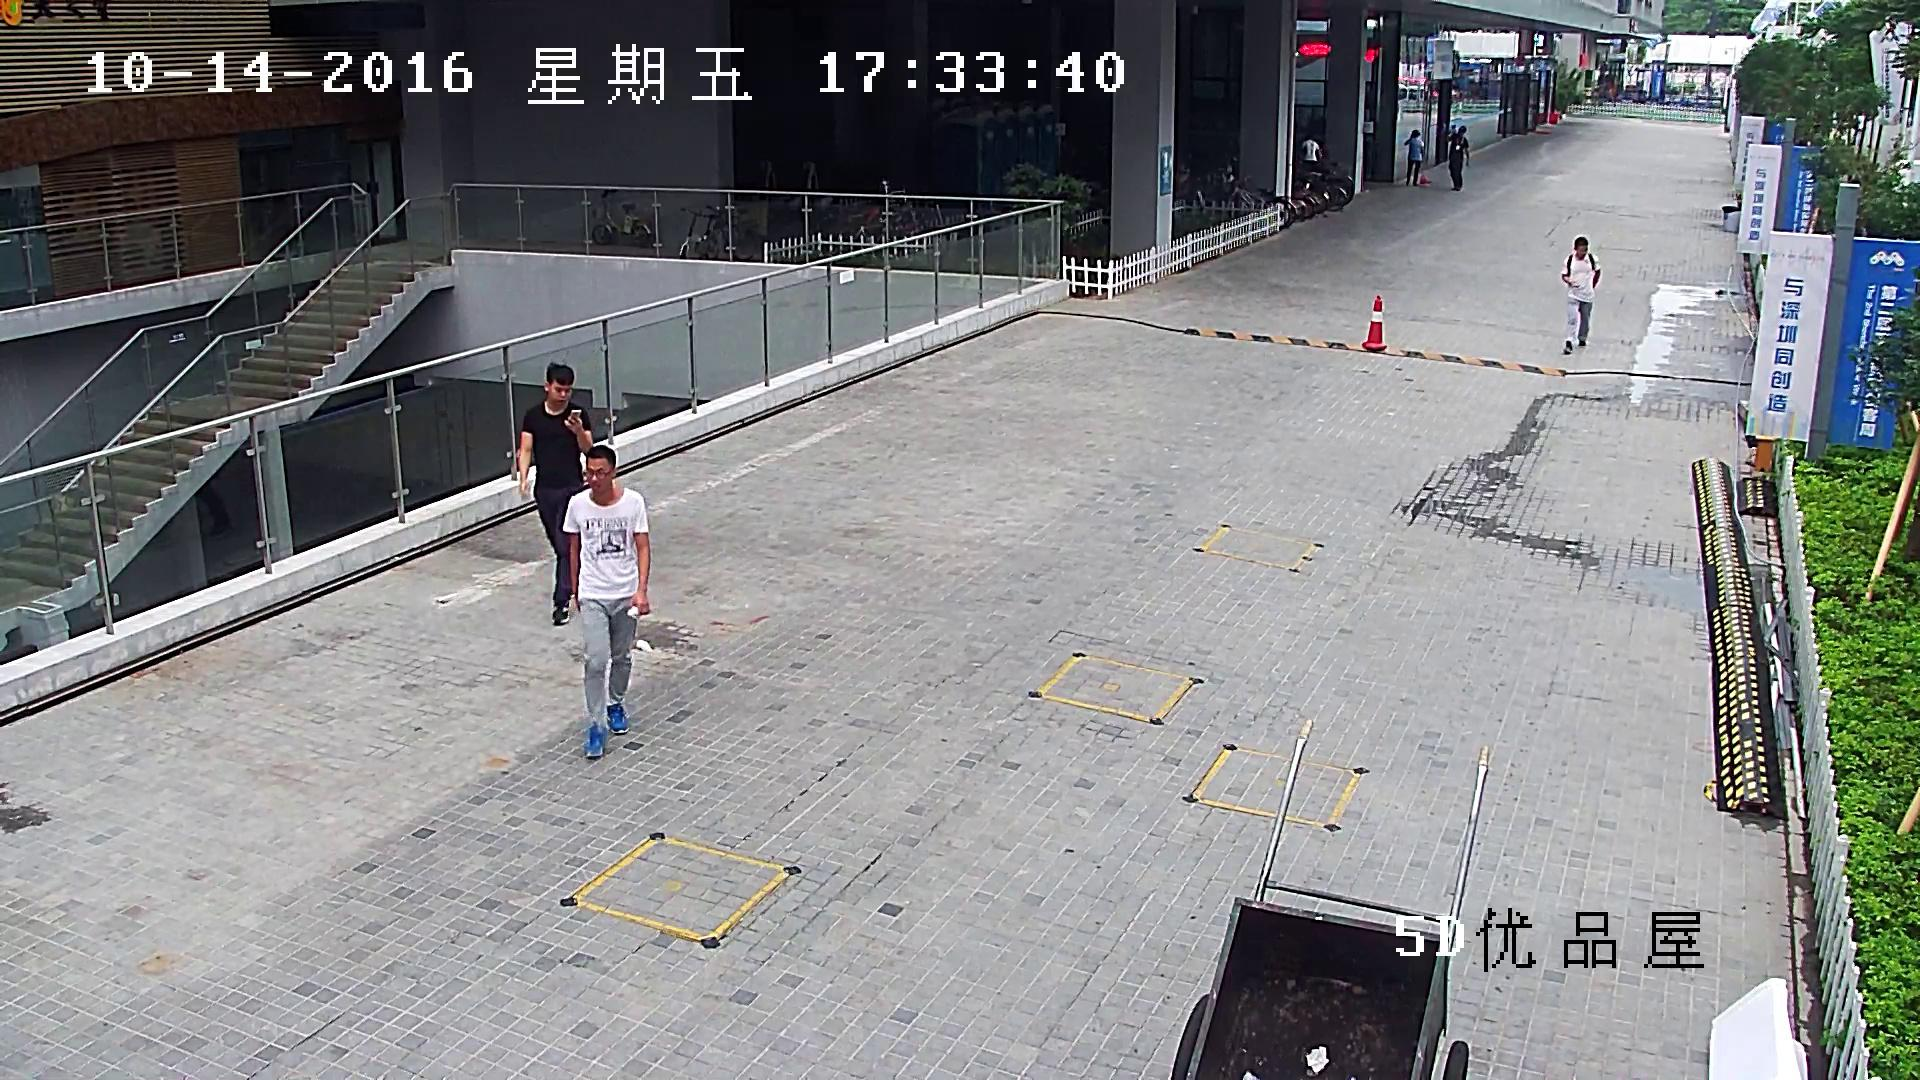person: (561, 445, 650, 758), (519, 361, 593, 627), (1561, 236, 1600, 354), (1445, 125, 1470, 190), (1404, 129, 1433, 185), (1404, 129, 1424, 185), (1300, 133, 1320, 165)
